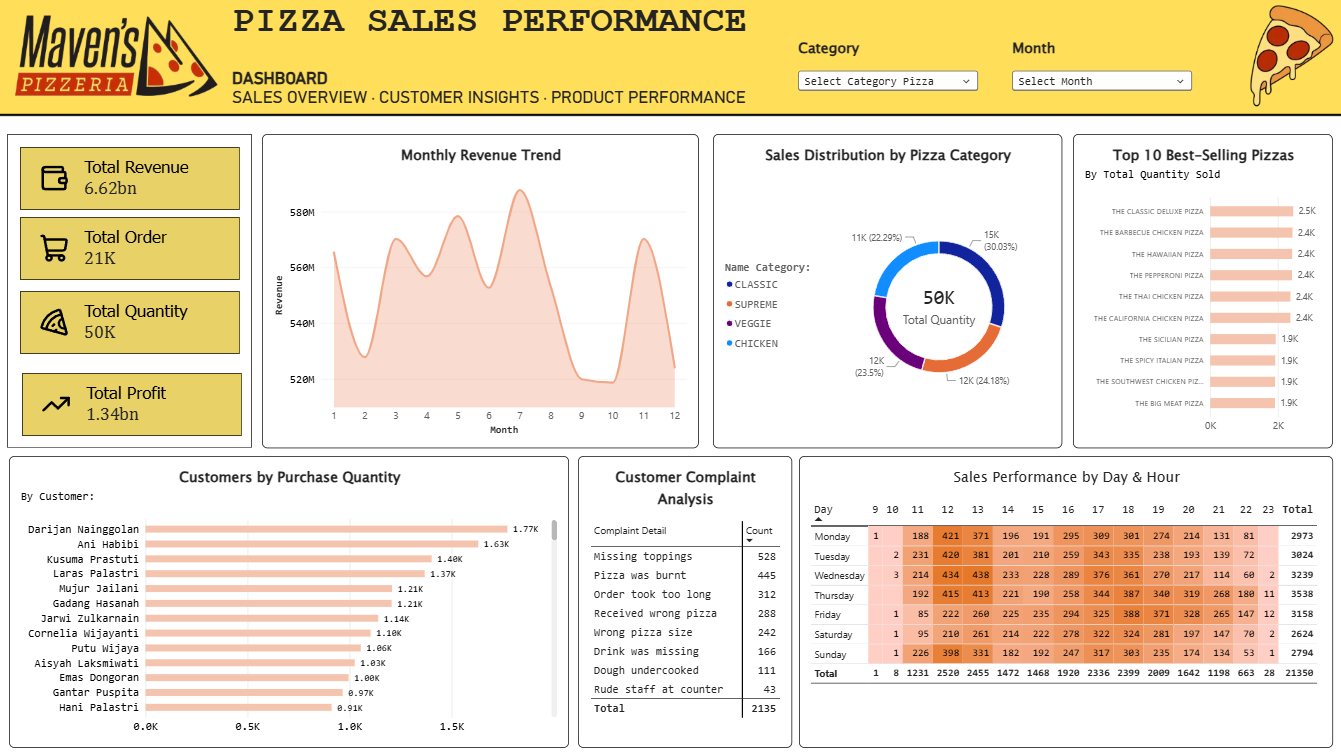

The page's visual inventory and layout, read from the dashboard file:
{"tool":"powerbi","page":{"name":"Page 1","canvas":[1920,1080],"ordinal":0},"visuals":[{"type":"shape","box":[11.7,191.7,350,448.3],"z":0},{"type":"shape","box":[30,209.3,314.3,90],"z":0,"group":"g1"},{"type":"shape","box":[30,309.3,314.3,90],"z":0,"group":"g2"},{"type":"shape","box":[30.2,416.2,314.3,90],"z":0,"group":"g3"},{"type":"shape","box":[32.2,532.2,314.3,90],"z":0,"group":"g4"},{"type":"textbox","box":[332.9,0,792.9,155.7],"z":1000},{"type":"group","id":"g1","title":"Group 1","box":[30,155,328.3,145],"z":2000},{"type":"cardVisual","title":"KPI","fields":{"Data":["Sum(fact_sales.revenue)"]},"box":[105.7,155,252.9,144.3],"z":2000,"group":"g1"},{"type":"cardVisual","title":"KPI","fields":{"Data":["fact_sales.Total Order"]},"box":[105.7,255,252.9,144.3],"z":2000,"group":"g2"},{"type":"cardVisual","title":"KPI","fields":{"Data":["Sum(fact_sales.quantity)"]},"box":[105.9,361.9,252.9,144.3],"z":2000,"group":"g3"},{"type":"cardVisual","title":"KPI","fields":{"Data":["Sum(fact_sales.gross_profit)"]},"box":[107.9,477.9,252.9,144.3],"z":2000,"group":"g4"},{"type":"group","id":"g2","title":"Group 1","box":[30,255,328.3,145],"z":3000},{"type":"group","id":"g3","title":"Group 1","box":[30.2,361.9,328,145],"z":4000},{"type":"group","id":"g4","title":"Group 1","box":[32.2,477.9,328,145],"z":5000},{"type":"image","box":[57.3,230.7,42.5,45.8],"z":5001,"group":"g1"},{"type":"image","box":[57.3,330.7,42.5,45.8],"z":5001,"group":"g2"},{"type":"image","box":[57.5,437.6,42.5,45.8],"z":5001,"group":"g3"},{"type":"image","box":[59.5,553.6,42.5,45.8],"z":5001,"group":"g4"},{"type":"barChart","title":"Top 10 Best-Selling Pizzas","fields":{"Category":["dim_pizza_type.pizza_type_name"],"Y":["Sum(fact_sales.quantity)"]},"box":[1534.3,191.4,371.4,448.6],"z":6000},{"type":"areaChart","title":"\tMonthly Revenue Trend","fields":{"Category":["dim_date.month"],"Y":["Sum(fact_sales.revenue)"]},"box":[375.7,191.4,624.3,448.6],"z":7000},{"type":"donutChart","title":"Sales Distribution by Pizza Category","fields":{"Category":["dim_category.category"],"Y":["Sum(fact_sales.quantity)"]},"box":[1020,191.4,498.6,448.6],"z":8000},{"type":"barChart","title":"Customers by Purchase Quantity","fields":{"Category":["dim_customer.customer_name"],"Y":["Sum(fact_sales.quantity)"]},"box":[14.3,651.4,800,417.1],"z":9000},{"type":"tableEx","title":"\tCustomer Complaint Analysis","fields":{"Values":["fact_sales.complain_detail","fact_sales.Total Order"]},"box":[827.1,651.4,305.7,417.1],"z":10000},{"type":"pivotTable","title":"\tSales Performance by Day & Hour","fields":{"Columns":["fact_sales.Order Hour"],"Rows":["dim_date.day_name"],"Values":["Count(fact_sales.order_id)"]},"box":[1142.9,651.4,762.9,417.1],"z":11000},{"type":"listSlicer","title":"Category","fields":{"Values":["dim_category.category"]},"box":[1125.7,40,288.6,100],"z":11001},{"type":"listSlicer","title":"Month","fields":{"Values":["dim_date.month_name"]},"box":[1431.4,40,288.6,100],"z":11002}]}

Visuals, with their boxes in screenshot pixels (x1, y1, x2, y2), scaled from the page's 1920x1080 canvas onto the 1341x752 screenshot:
shape: pyautogui.locateOnScreen(8, 133, 253, 446)
shape: pyautogui.locateOnScreen(21, 146, 240, 208)
shape: pyautogui.locateOnScreen(21, 215, 240, 278)
shape: pyautogui.locateOnScreen(21, 290, 241, 352)
shape: pyautogui.locateOnScreen(22, 371, 242, 433)
textbox: pyautogui.locateOnScreen(233, 0, 786, 108)
"Group 1" group: pyautogui.locateOnScreen(21, 108, 250, 209)
"KPI" cardVisual: pyautogui.locateOnScreen(74, 108, 250, 208)
"KPI" cardVisual: pyautogui.locateOnScreen(74, 178, 250, 278)
"KPI" cardVisual: pyautogui.locateOnScreen(74, 252, 251, 352)
"KPI" cardVisual: pyautogui.locateOnScreen(75, 333, 252, 433)
"Group 1" group: pyautogui.locateOnScreen(21, 178, 250, 279)
"Group 1" group: pyautogui.locateOnScreen(21, 252, 250, 353)
"Group 1" group: pyautogui.locateOnScreen(22, 333, 252, 434)
image: pyautogui.locateOnScreen(40, 161, 70, 193)
image: pyautogui.locateOnScreen(40, 230, 70, 262)
image: pyautogui.locateOnScreen(40, 305, 70, 337)
image: pyautogui.locateOnScreen(42, 385, 71, 417)
"Top 10 Best-Selling Pizzas" barChart: pyautogui.locateOnScreen(1072, 133, 1331, 446)
"	Monthly Revenue Trend" areaChart: pyautogui.locateOnScreen(262, 133, 698, 446)
"Sales Distribution by Pizza Category" donutChart: pyautogui.locateOnScreen(712, 133, 1061, 446)
"Customers by Purchase Quantity" barChart: pyautogui.locateOnScreen(10, 454, 569, 744)
"	Customer Complaint Analysis" tableEx: pyautogui.locateOnScreen(578, 454, 791, 744)
"	Sales Performance by Day & Hour" pivotTable: pyautogui.locateOnScreen(798, 454, 1331, 744)
"Category" listSlicer: pyautogui.locateOnScreen(786, 28, 988, 97)
"Month" listSlicer: pyautogui.locateOnScreen(1000, 28, 1201, 97)
